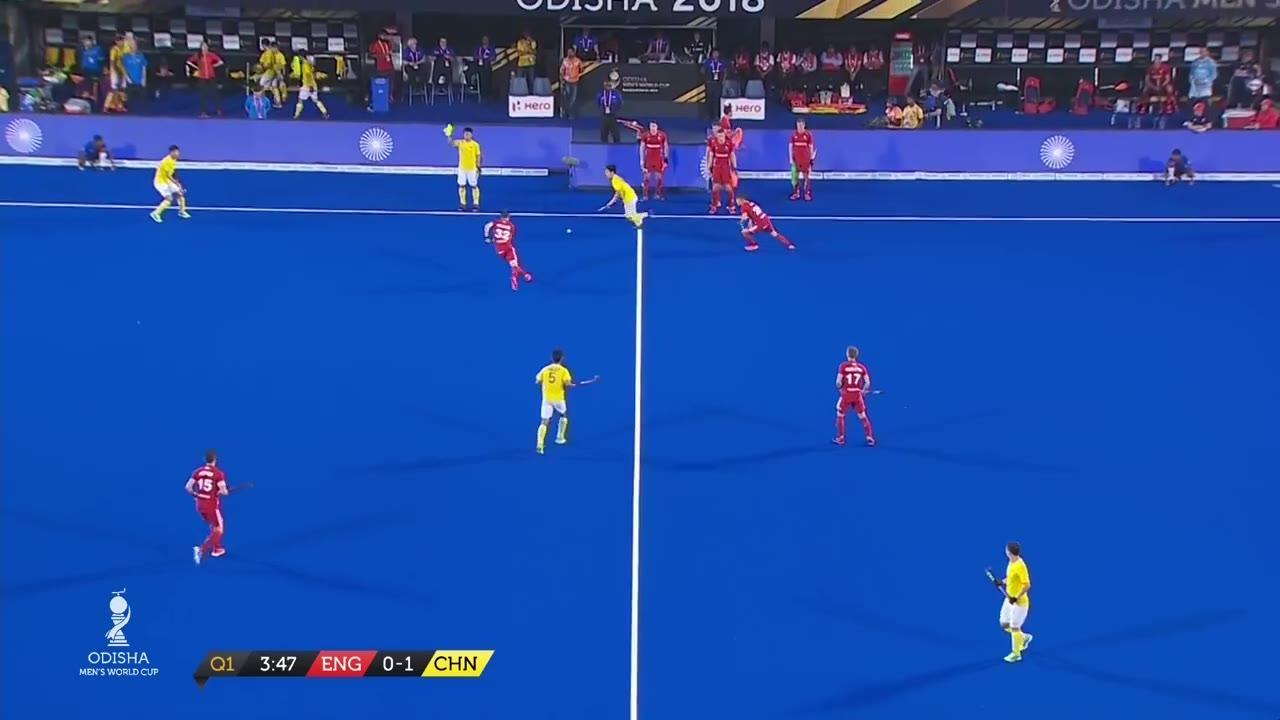ball: (558, 223, 580, 243)
